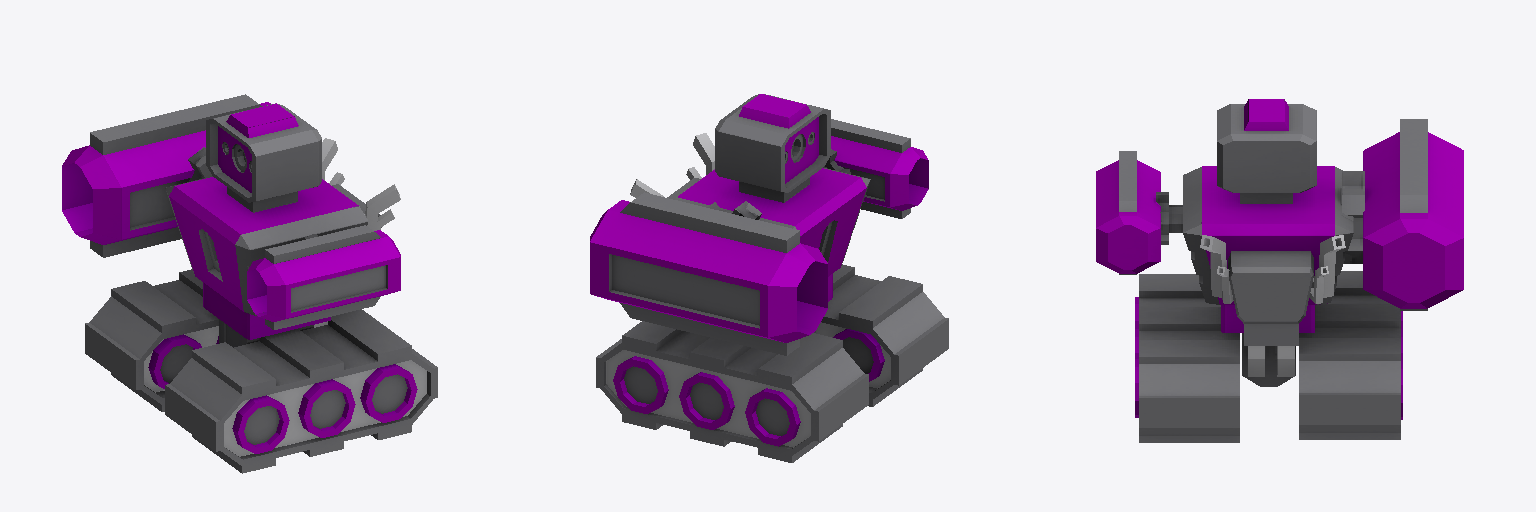
3 renders of one model, left to right at view 1: azimuth 30°, elevation 25°; view 2: azimuth 150°, elevation 25°; view 3: azimuth 270°, elevation 25°, orthographic.
Visible parts, largest first — view 1: Object006, Object007, Object010; view 2: Object006, Object007, Object010; view 3: Object006, Object007, Object010, Object009, Object008.
Part boxes in pixels (bbox=[...]): Object006: bbox=[62, 94, 437, 473]; Object007: bbox=[165, 103, 368, 347]; Object010: bbox=[314, 138, 400, 327]; Object006: bbox=[590, 119, 948, 462]; Object007: bbox=[675, 94, 870, 332]; Object010: bbox=[630, 133, 714, 199]; Object006: bbox=[1096, 119, 1463, 442]; Object007: bbox=[1183, 99, 1353, 386]; Object010: bbox=[1200, 235, 1345, 376]; Object009: bbox=[1342, 171, 1364, 263]; Object008: bbox=[1156, 192, 1182, 244].
Bounding box in the file's own units: 87.45 × 109 × 125.
1 materials, 1 textured.